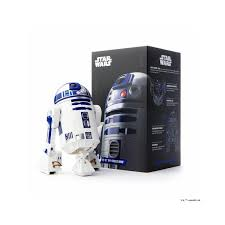r2d2: (40, 83, 101, 176)
